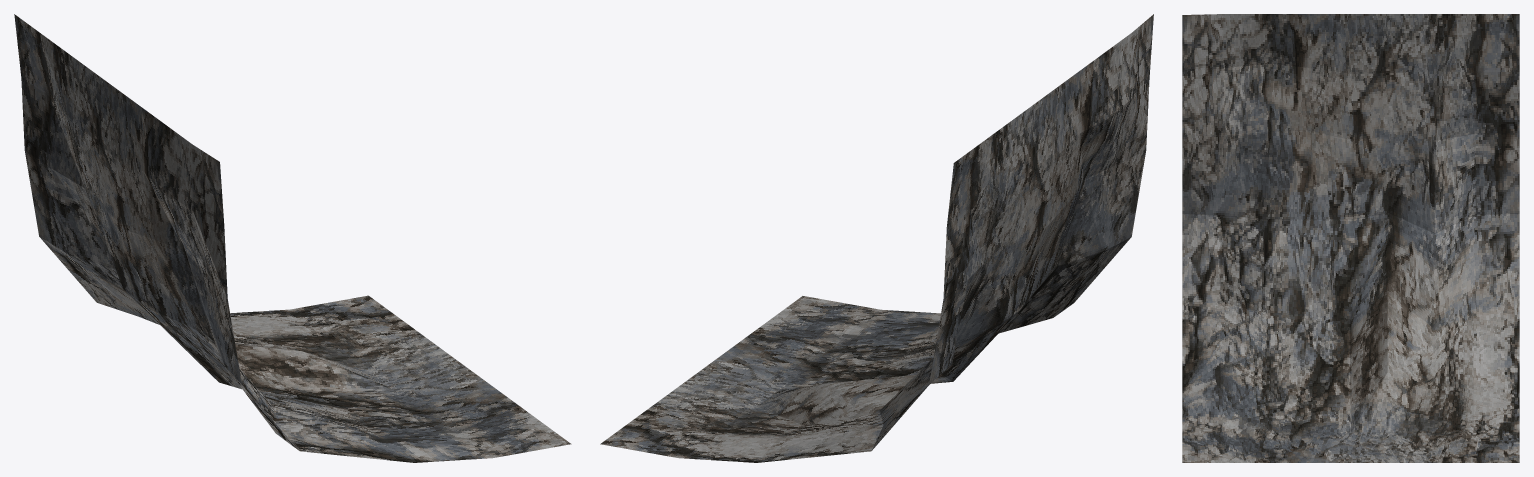
Rendered from wall_01_corner_01.glb.
The picture shows the model from 3 angles, left to right: view 1: azimuth 30°, elevation 25°; view 2: azimuth 150°, elevation 25°; view 3: azimuth 270°, elevation 25°; orthographic projection. The views are drawn at different scales.
Parts seen in each view (by area): view 1: wall_01_corner_01; view 2: wall_01_corner_01; view 3: wall_01_corner_01.
Boxes of the visible parts, left/top/right/bottom form: wall_01_corner_01: left=14, top=14, right=571, bottom=462; wall_01_corner_01: left=600, top=14, right=1153, bottom=462; wall_01_corner_01: left=1182, top=14, right=1519, bottom=462.
Size of the model in its own units: 16.41 by 16.06 by 16.
1 material, 1 textured.
